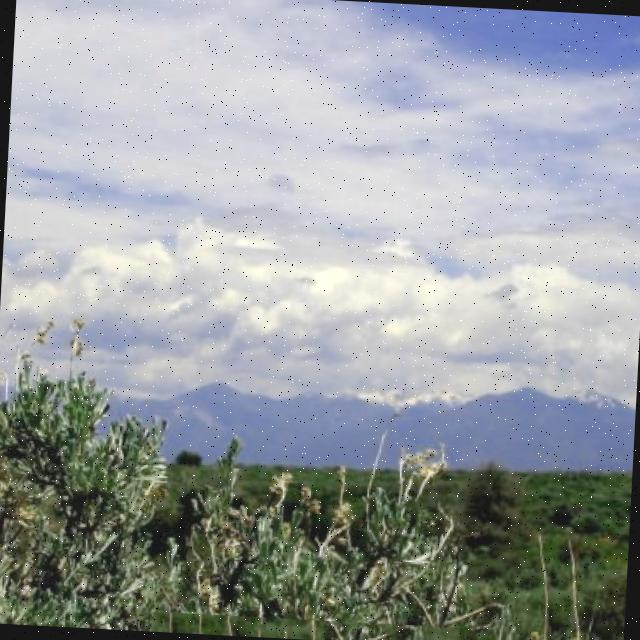Cs: (1, 52, 640, 375)
